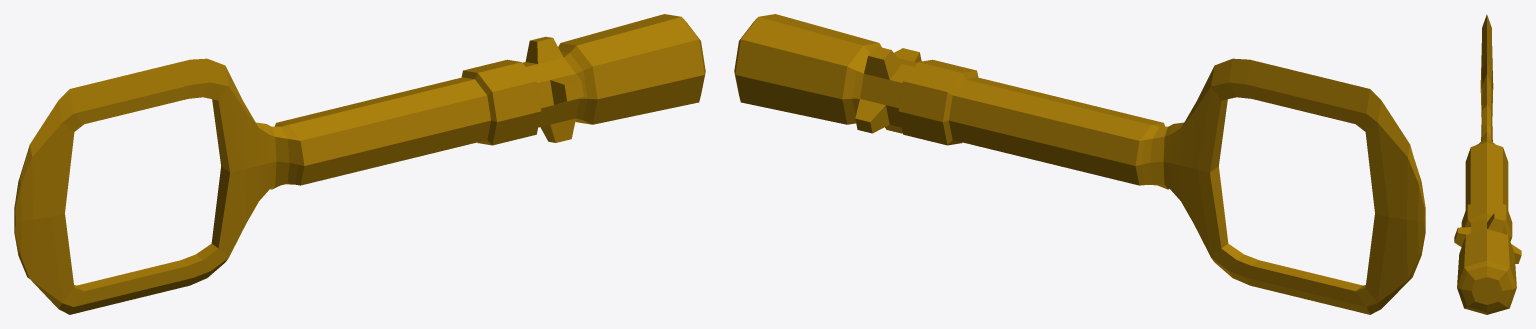
File: llave5.fbx
3 renders of one model, left to right at view 1: azimuth 30°, elevation 25°; view 2: azimuth 150°, elevation 25°; view 3: azimuth 270°, elevation 25°, orthographic. The views are drawn at different scales.
Visible parts, largest first — view 1: Key5:Mesh; view 2: Key5:Mesh; view 3: Key5:Mesh.
Part boxes in pixels (x1,y1,x2,y2): Key5:Mesh: [14, 14, 705, 314]; Key5:Mesh: [734, 14, 1425, 314]; Key5:Mesh: [1454, 14, 1521, 314].
Bounding box in the file's own units: 6.23 × 1.99 × 0.8155.
